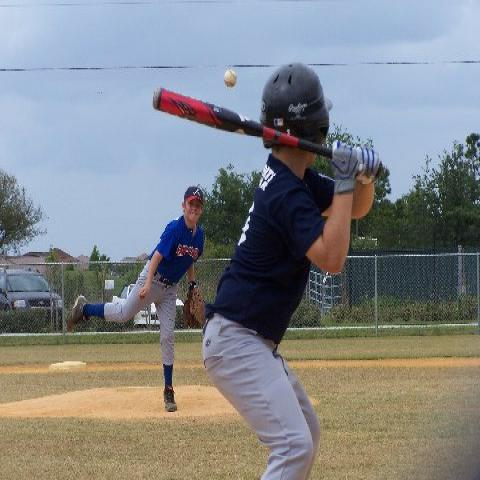car: (0, 271, 56, 327), (119, 283, 183, 327)
